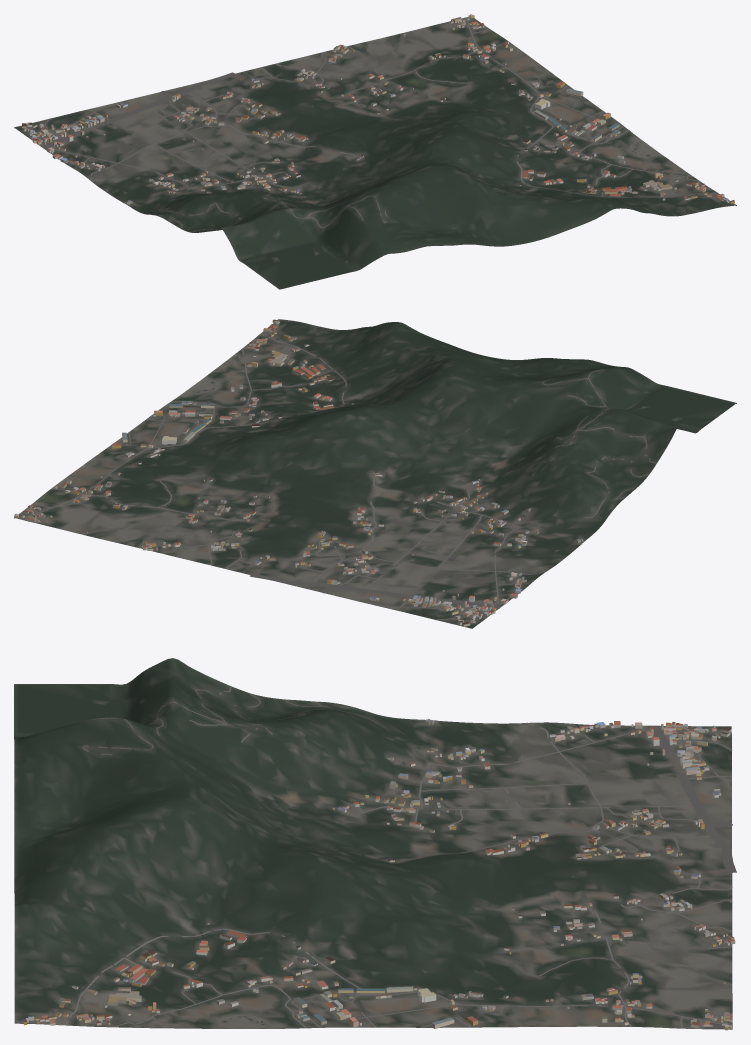
3 renders of one model, top to bottom at view 1: azimuth 30°, elevation 25°; view 2: azimuth 150°, elevation 25°; view 3: azimuth 270°, elevation 25°, orthographic. The views are drawn at different scales.
Visible parts, largest first — view 1: ground, buildings, roads; view 2: ground, buildings, roads; view 3: ground, buildings, roads.
Part boxes in pixels (x1,y1,x2,y2): ground: (14, 17, 736, 289); buildings: (22, 14, 734, 204); roads: (40, 17, 717, 232); ground: (14, 319, 736, 628); buildings: (14, 319, 583, 626); roads: (21, 334, 656, 620); ground: (14, 658, 732, 1029); buildings: (23, 718, 735, 1030); roads: (64, 686, 736, 1028).
Size of the model in its own units: 1412 by 181 by 1412.
